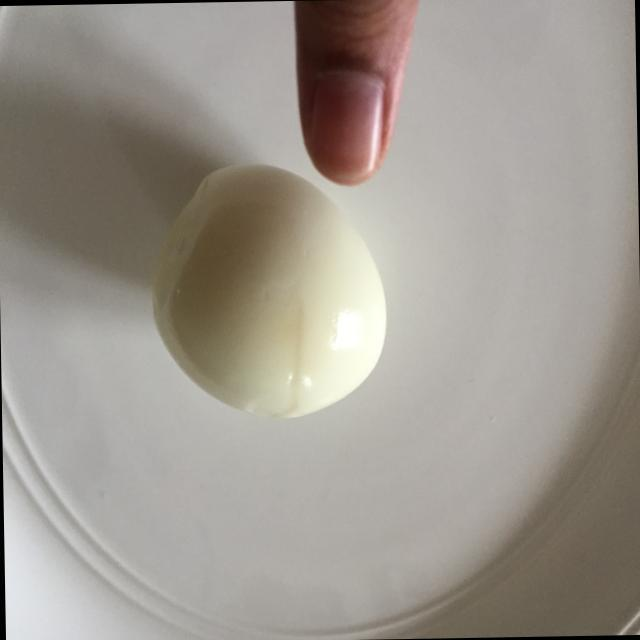Egg: (134, 180, 397, 432)
Finger: (290, 0, 429, 175)
